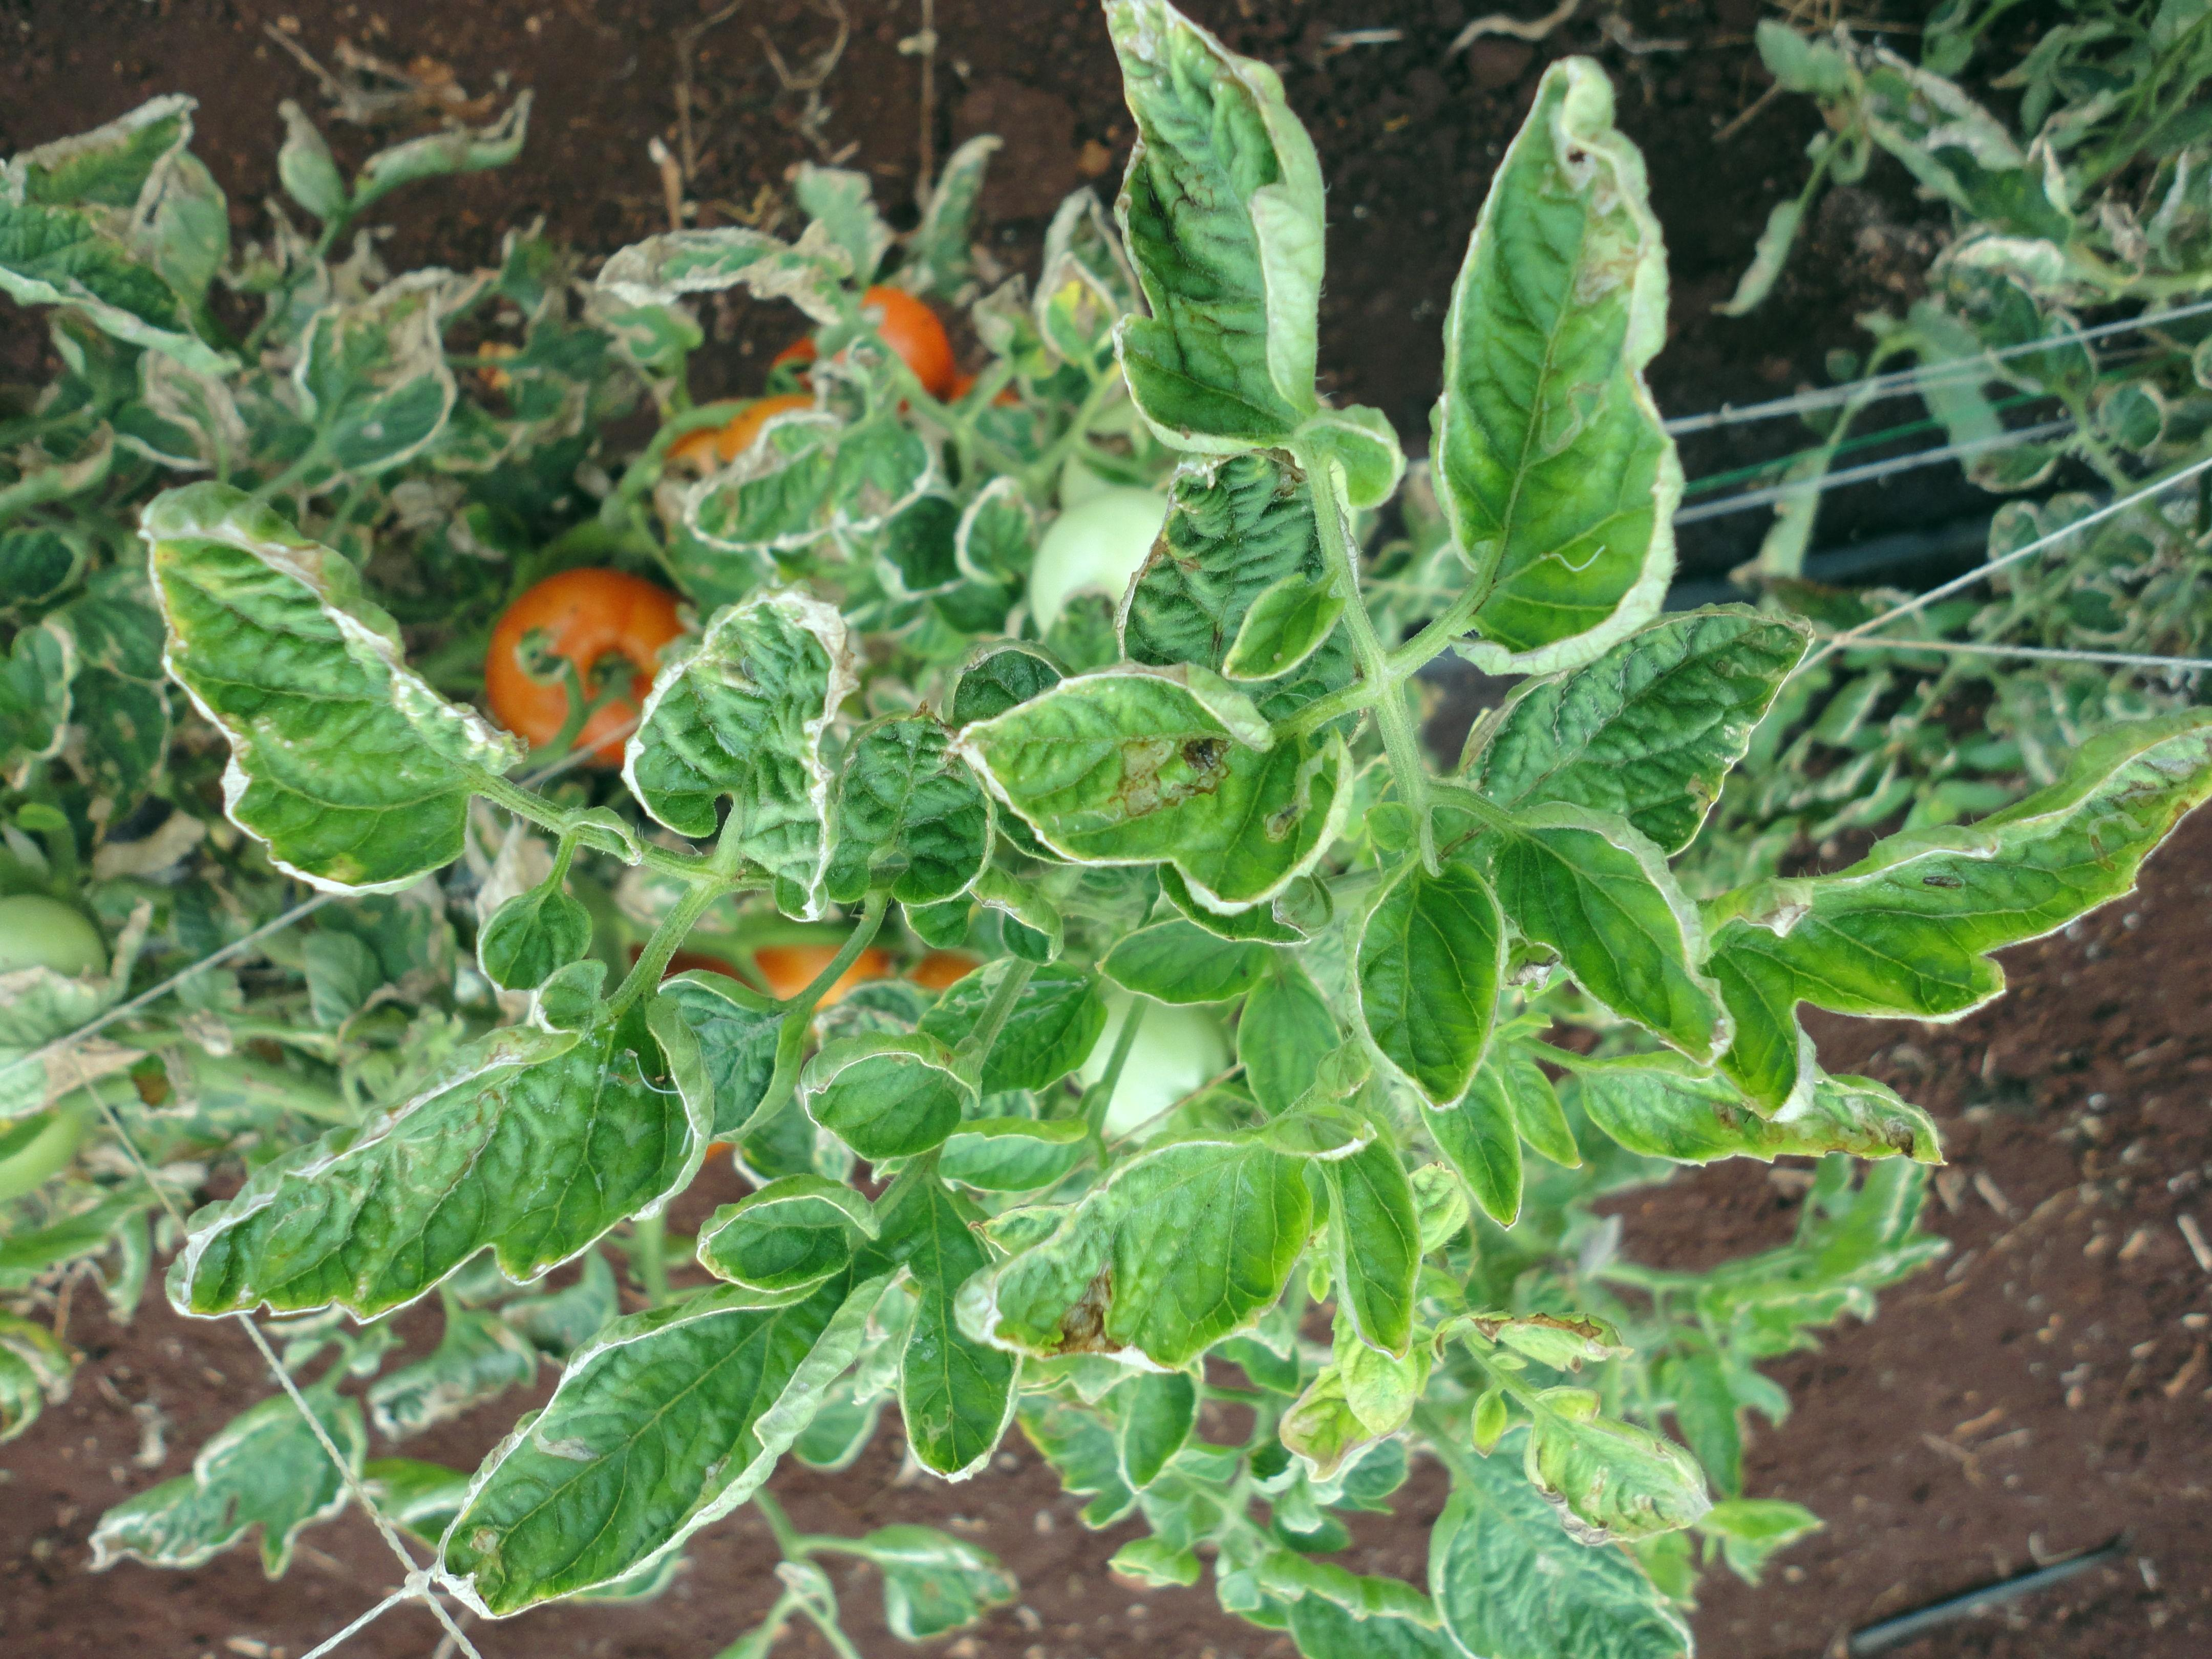Tomato leaf yellow virus: (408, 1131, 1029, 1622), (1693, 681, 2184, 1157), (1021, 0, 1428, 495), (113, 1030, 747, 1333), (111, 444, 512, 910), (939, 1060, 1460, 1406), (1423, 71, 1709, 692), (939, 667, 1359, 979), (597, 469, 867, 927), (1498, 817, 1804, 1082), (1336, 856, 1576, 1126)
